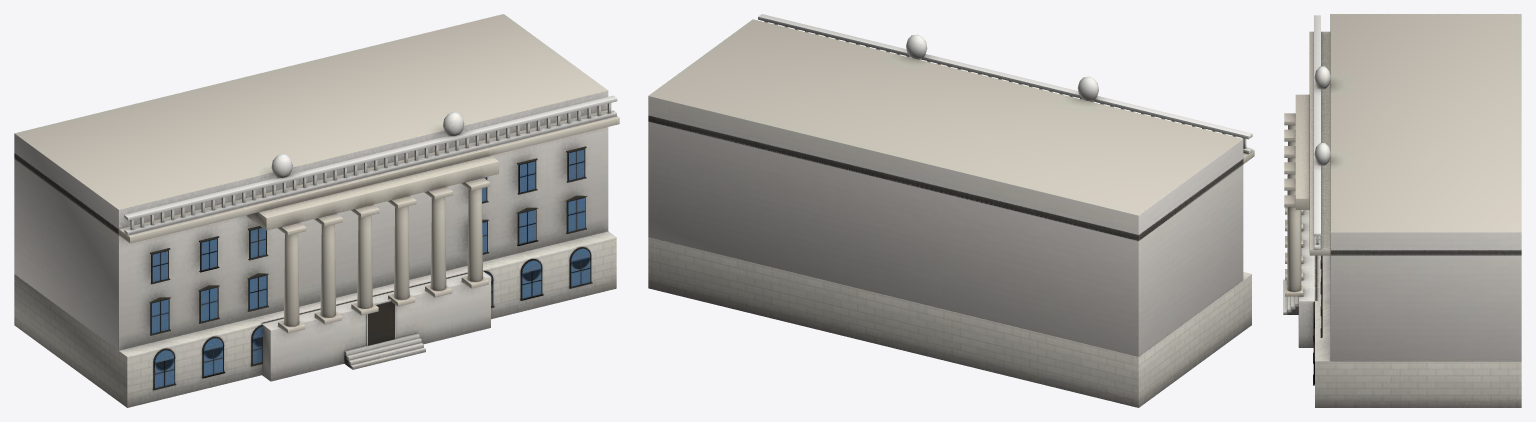
Rendered from wilson.glb.
The picture shows the model from 3 angles, left to right: view 1: azimuth 30°, elevation 25°; view 2: azimuth 150°, elevation 25°; view 3: azimuth 270°, elevation 25°; orthographic projection. The views are drawn at different scales.
Parts seen in each view (by area): view 1: wilson; view 2: wilson; view 3: wilson.
Boxes of the visible parts, <box> form: wilson: <box>14,14,619,407</box>; wilson: <box>648,14,1254,407</box>; wilson: <box>1283,14,1521,407</box>.
Size of the model in its own units: 40 by 16.56 by 18.45.
1 material, 1 textured.
